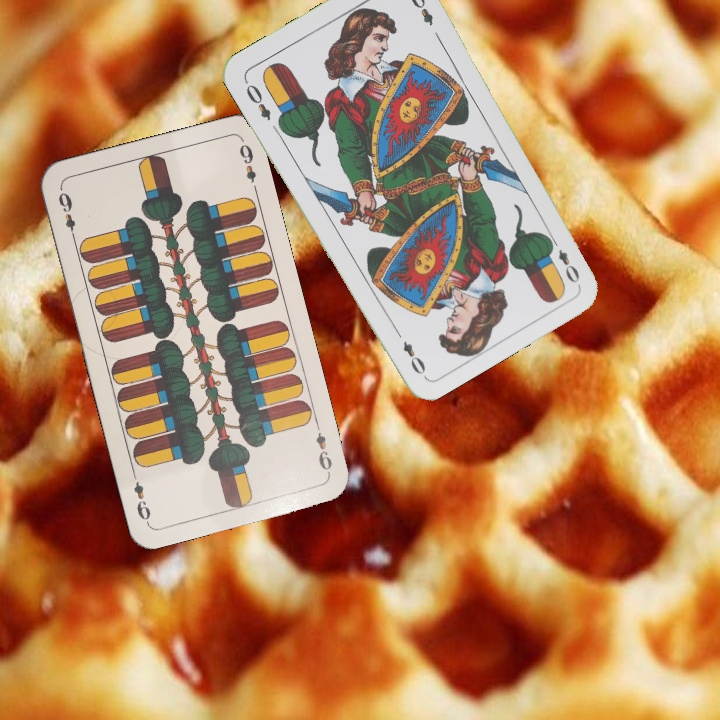E9: (54, 185, 79, 243), (311, 418, 335, 477)
EO: (545, 232, 583, 286), (240, 76, 274, 123)
